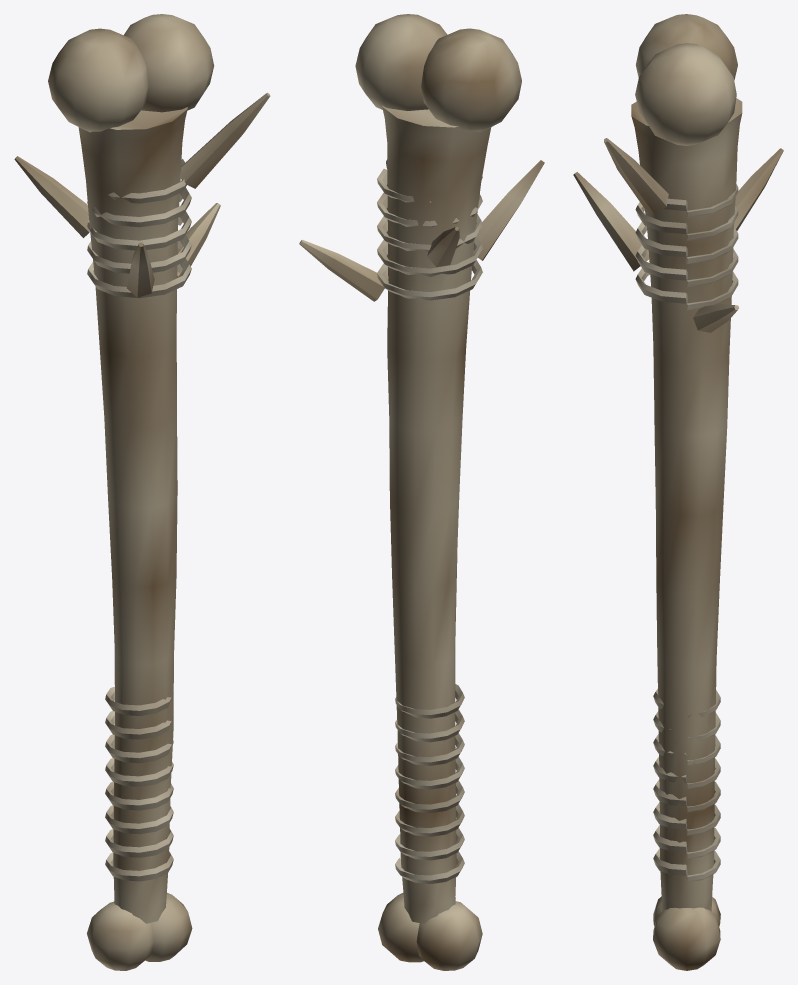
The model's file is bone-club.glb.
3 views of the same model, side by side, from view 1: azimuth 30°, elevation 25°; view 2: azimuth 150°, elevation 25°; view 3: azimuth 270°, elevation 25° (orthographic).
Visible parts, largest first — view 1: bone-club; view 2: bone-club; view 3: bone-club.
Boxes of the visible parts, x1,y1,x2,y2 form: bone-club: (14,14,270,970); bone-club: (299,14,544,970); bone-club: (573,14,783,970).
Size of the model in its own units: 0.135 by 0.6362 by 0.1317.
